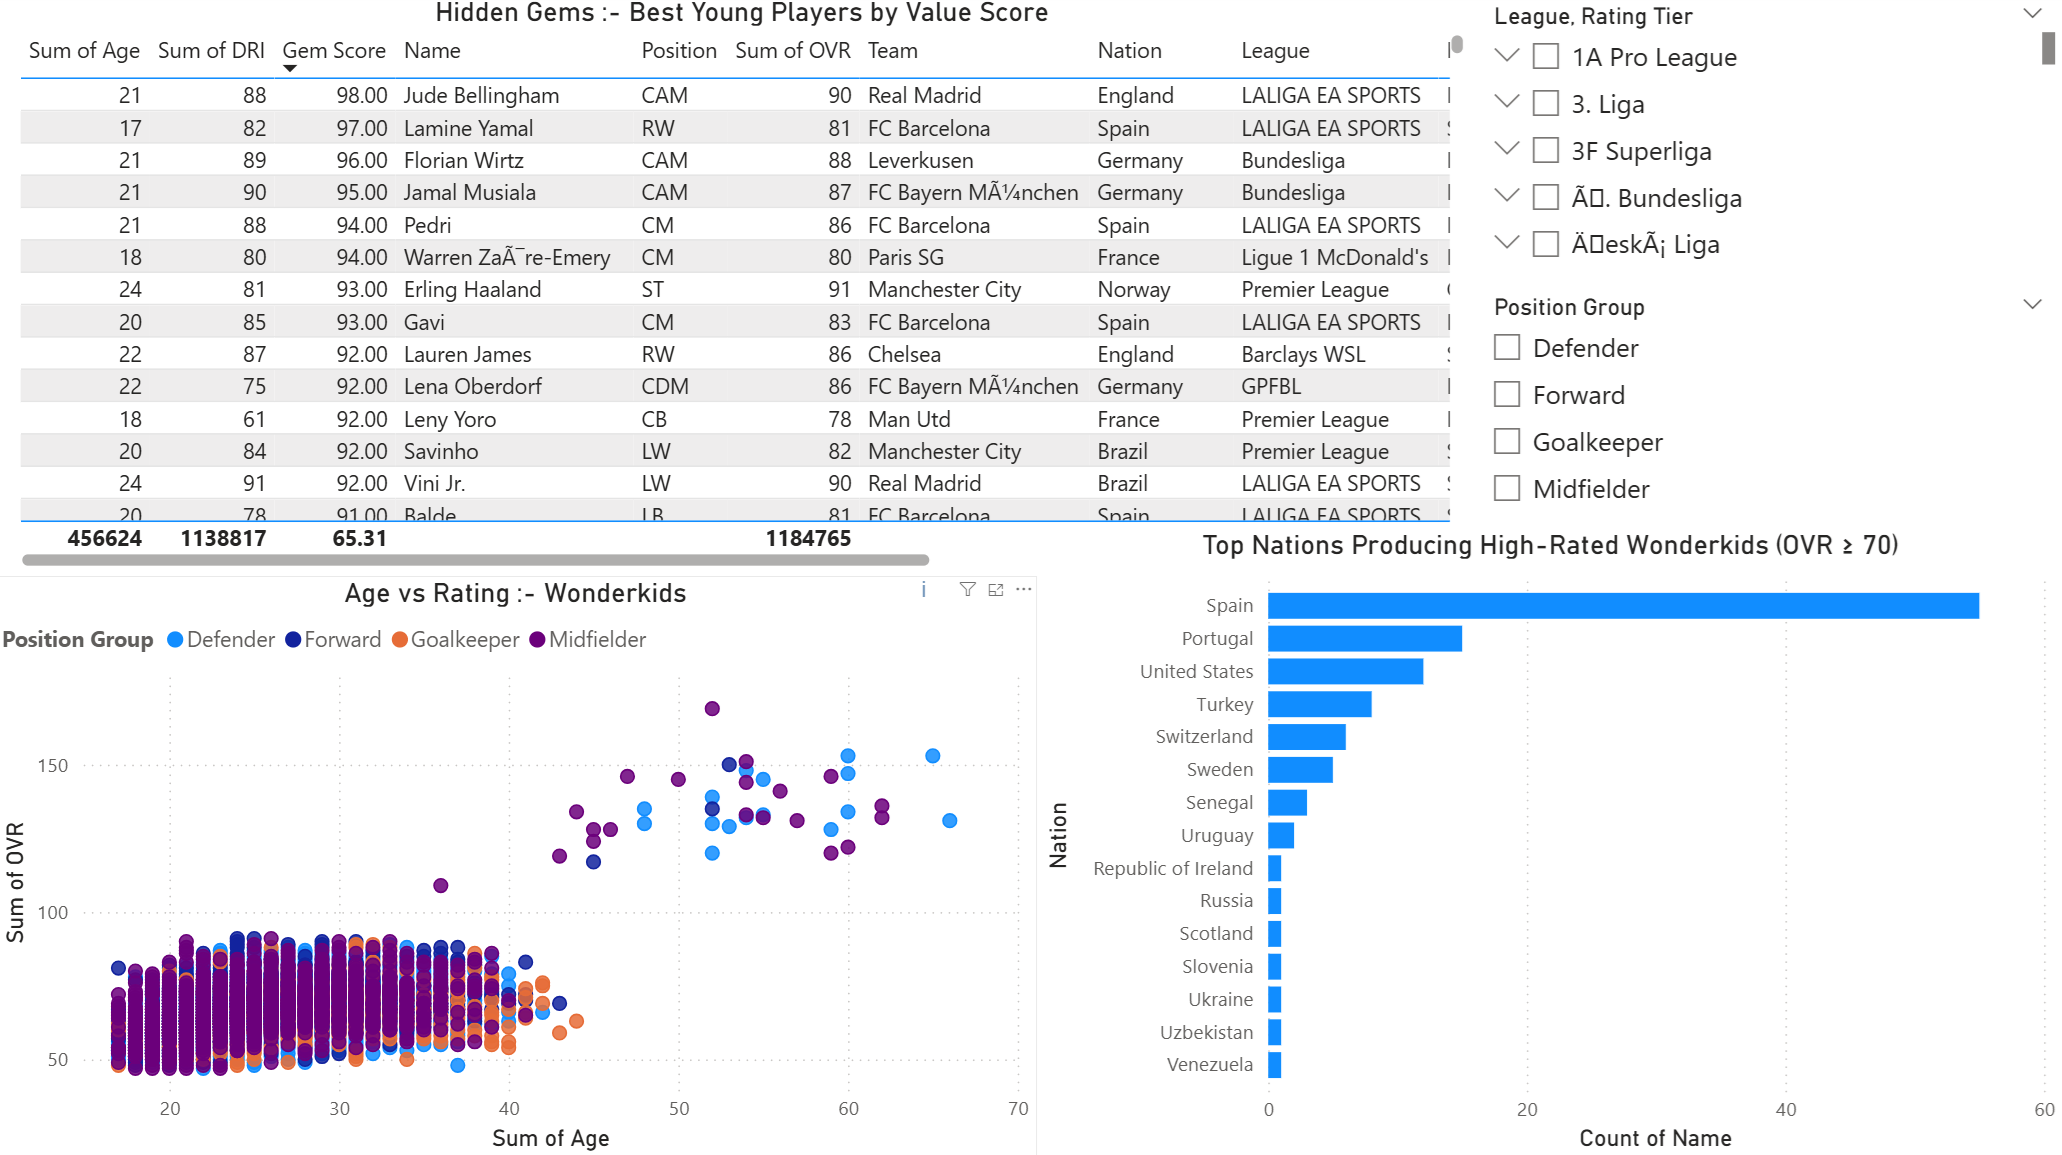

This screenshot's page, from the dashboard's own definition file:
{"tool":"powerbi","page":{"name":"Hidden Gems","canvas":[1280,720],"ordinal":3},"visuals":[{"type":"tableEx","title":"Hidden Gems :- Best Young Players by Value Score","fields":{"Values":["Sum(fc25_powerbi_ready.Age)","Sum(fc25_powerbi_ready.DRI)","fc25_powerbi_ready.Gem Score","fc25_powerbi_ready.Name","fc25_powerbi_ready.Position","Sum(fc25_powerbi_ready.OVR)","fc25_powerbi_ready.Team","fc25_powerbi_ready.Nation","fc25_powerbi_ready.League","fc25_powerbi_ready.Player Archetype","Sum(fc25_powerbi_ready.PAC)","Sum(fc25_powerbi_ready.SHO)"]},"box":[10.4,0,904.4,359.5],"z":0},{"type":"scatterChart","title":"Age vs Rating :- Wonderkids","fields":{"X":["Sum(fc25_powerbi_ready.Age)"],"Y":["Sum(fc25_powerbi_ready.OVR)"],"Category":["fc25_powerbi_ready.Name"],"Series":["fc25_powerbi_ready.Position Group"]},"box":[0,359.5,645.2,360.6],"z":1000},{"type":"clusteredBarChart","title":"Top Nations Producing High-Rated Wonderkids (OVR ≥ 70)","fields":{"Category":["fc25_powerbi_ready.Nation"],"Y":["Count(fc25_powerbi_ready.Name)"]},"box":[645.2,329.5,634.8,390.6],"z":2000},{"type":"slicer","fields":{"Values":["fc25_powerbi_ready.League","fc25_powerbi_ready.Rating Tier"]},"box":[914.8,0,365.2,179.7],"z":2001},{"type":"slicer","fields":{"Values":["fc25_powerbi_ready.Position Group"]},"box":[914.8,179.7,365.2,149.8],"z":2002}]}

Visuals, with their boxes in screenshot pixels (x1, y1, x2, y2), scaled from the page's 1280x720 canvas onto the 2062x1155 screenshot:
"Hidden Gems :- Best Young Players by Value Score" tableEx: <region>17, 0, 1474, 577</region>
"Age vs Rating :- Wonderkids" scatterChart: <region>0, 577, 1039, 1154</region>
"Top Nations Producing High-Rated Wonderkids (OVR ≥ 70)" clusteredBarChart: <region>1039, 529, 2061, 1154</region>
slicer - fc25_powerbi_ready.League x fc25_powerbi_ready.Rating Tier: <region>1474, 0, 2061, 288</region>
slicer - fc25_powerbi_ready.Position Group: <region>1474, 288, 2061, 529</region>
